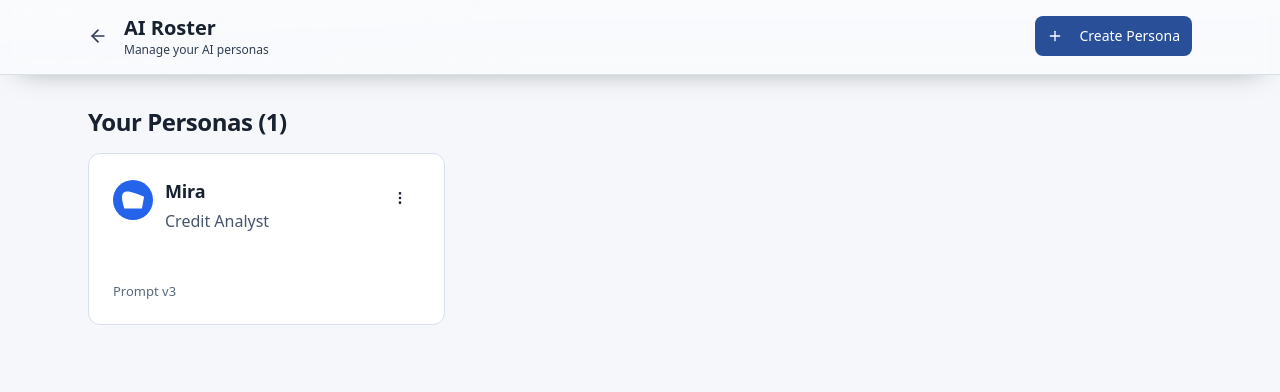
Test: shared roster command flow › confirms deletion and removes only the selected catalog entry
The width and height of the screenshot is (1280, 392).
Expected: the text "Mira" is shown, [165,179,205,203]
Press the mouse on the button named "Actions for Mira" at coordinates (400, 198), box [380,178,420,218]
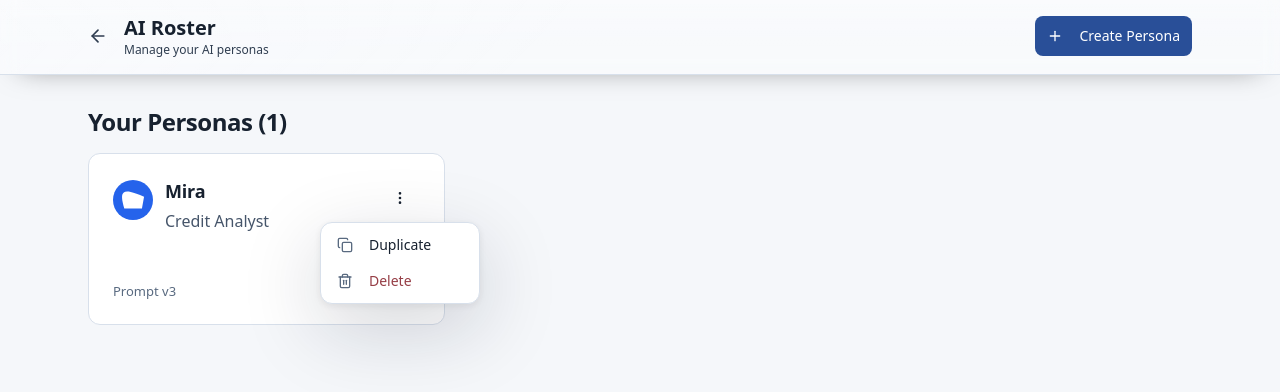
Click the menu item "Delete". click: coordinates (374, 280)
box: [337,271,412,290]
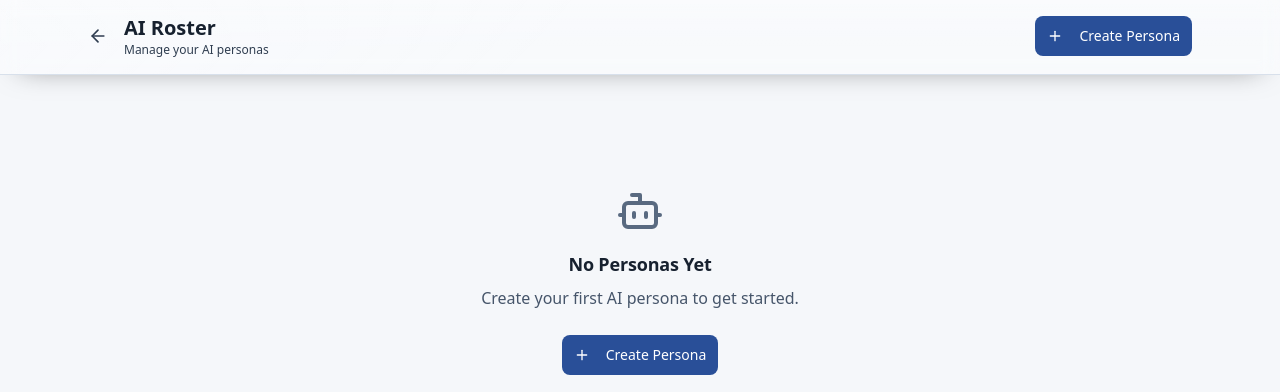
Now the link "Mira" is gone
